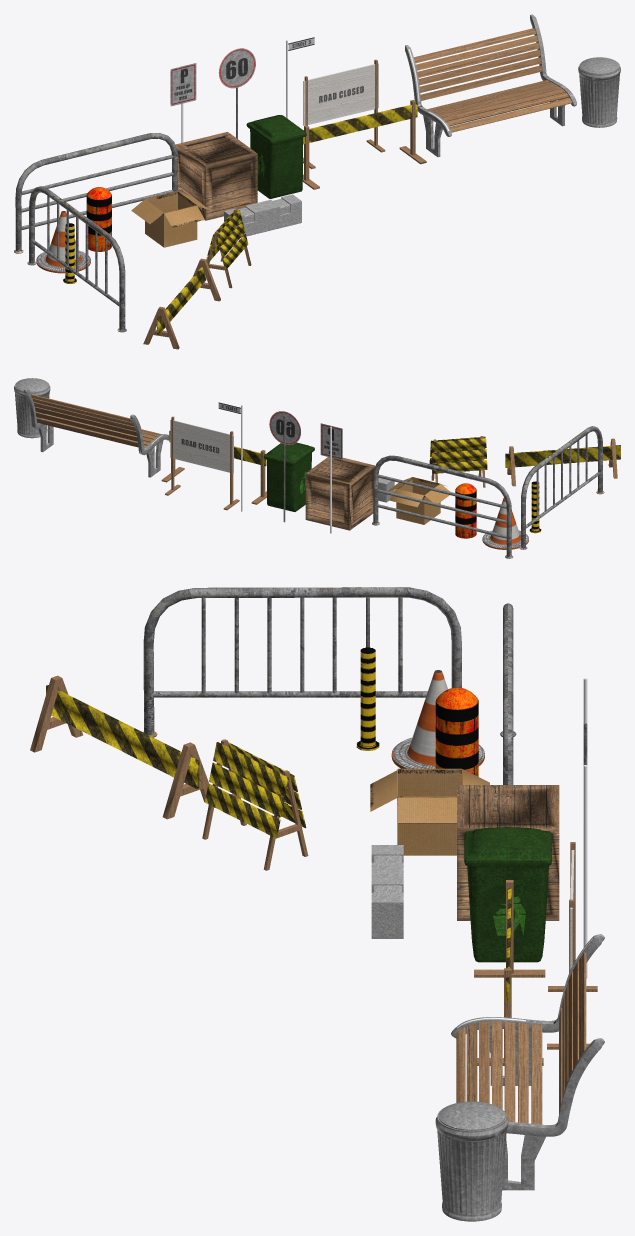
Rendered from street_props.glb.
3 views of the same model, one above another, from view 1: azimuth 30°, elevation 25°; view 2: azimuth 150°, elevation 25°; view 3: azimuth 270°, elevation 25° (orthographic). The views are drawn at different scales.
Parts seen in each view (by area): view 1: 3DSMeshMatrix (×20); view 2: 3DSMeshMatrix (×24); view 3: 3DSMeshMatrix (×22).
Part boxes in pixels (x1,y1,x2,y2): 3DSMeshMatrix (×20): (15, 14, 620, 349); 3DSMeshMatrix (×24): (14, 378, 620, 556); 3DSMeshMatrix (×22): (30, 587, 604, 1221).
Size of the model in its own units: 7.09 by 1.49 by 3.48.
Materials: 4 (3 with a texture image).
